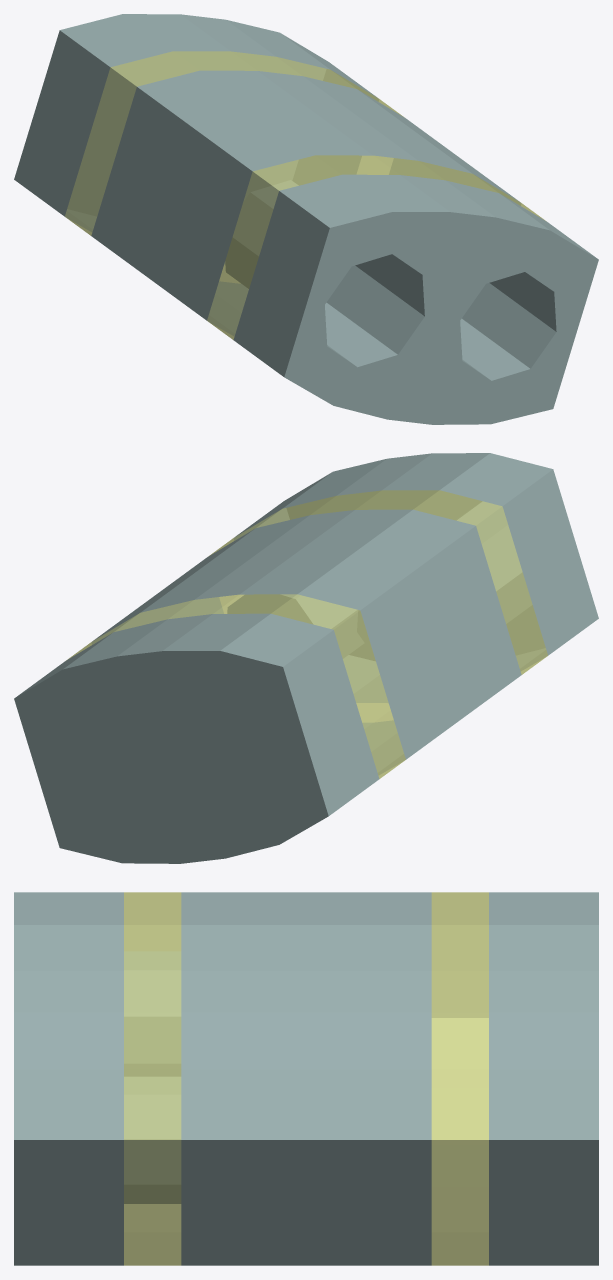
The model's file is RocketLauncher.fbx.
3 views of the same model, one above another, from view 1: azimuth 30°, elevation 25°; view 2: azimuth 150°, elevation 25°; view 3: azimuth 270°, elevation 25° (orthographic). The views are drawn at different scales.
Visible parts, largest first — view 1: RocketLauncher.002; view 2: RocketLauncher.002; view 3: RocketLauncher.002.
Boxes of the visible parts, x1=… form: RocketLauncher.002: x1=14, y1=14, x2=598, y2=424; RocketLauncher.002: x1=14, y1=453, x2=598, y2=863; RocketLauncher.002: x1=14, y1=892, x2=598, y2=1265.
Size of the model in its own units: 67.14 by 48.18 by 99.84.
